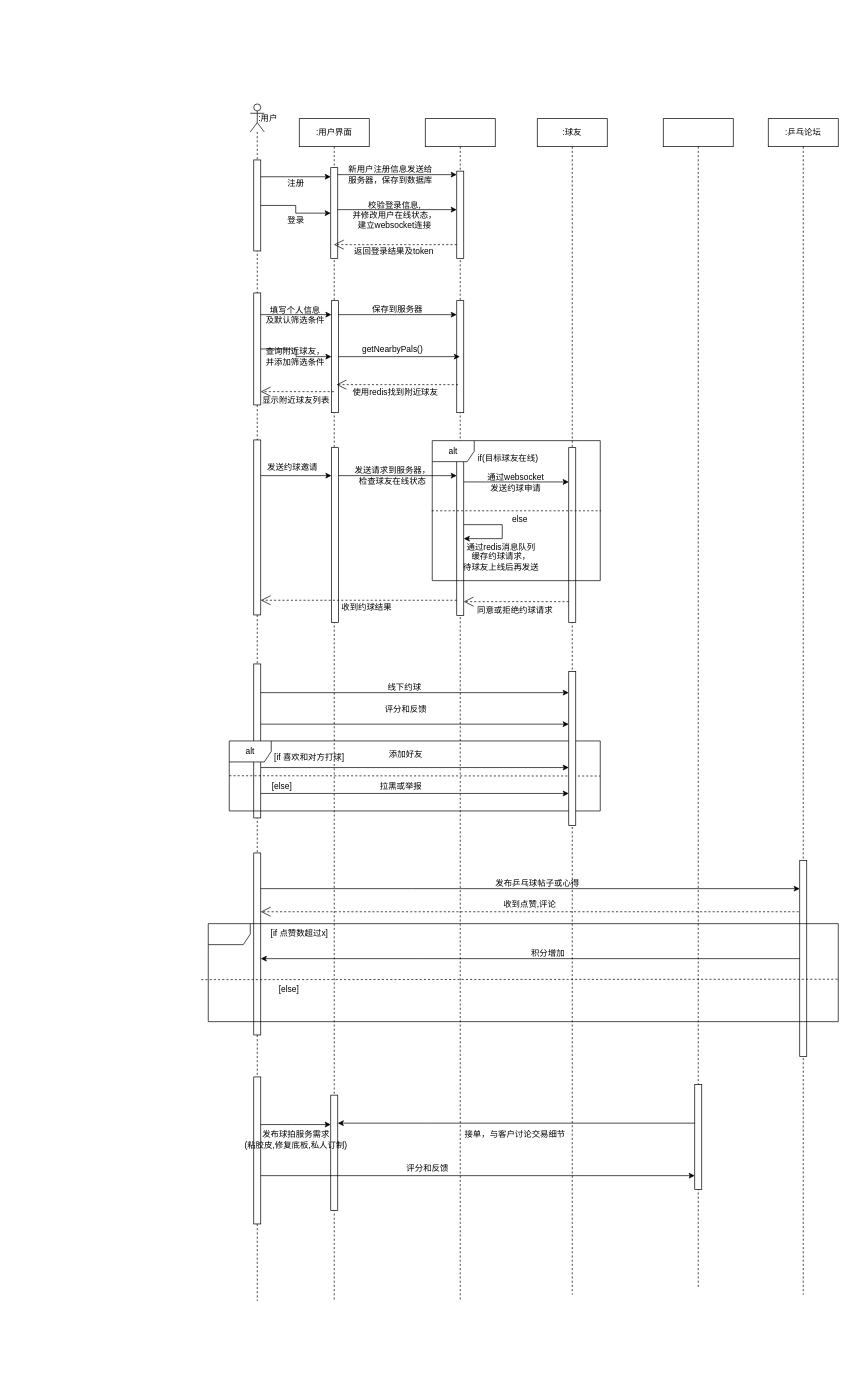
Image size: 851x1382. Some labels were removed from this diagram. The shapes that lost their labels are listed below. From the top down, each one's box as (x1, y1, x2, y2) in pixels, then its label:
(425, 118, 495, 1302): :服务器
(663, 118, 733, 1288): :球拍厂商
(208, 923, 838, 1022): frame
